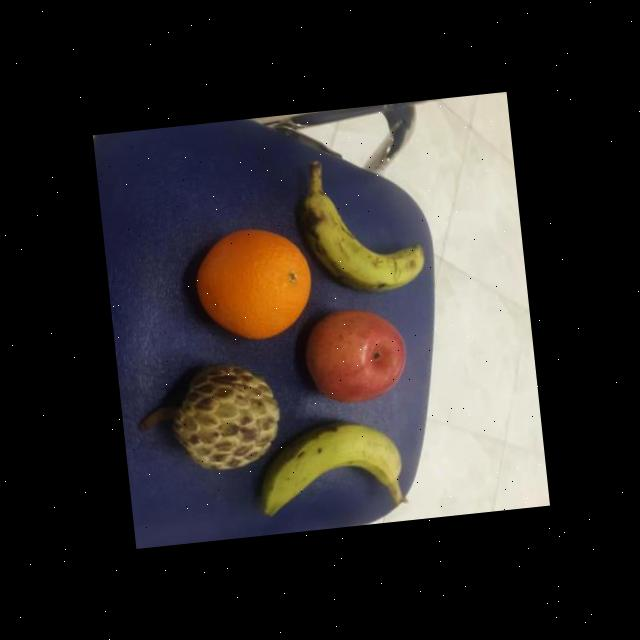Sakya fruit: (164, 354, 289, 476)
apple: (296, 300, 412, 411)
banana: (290, 180, 430, 305), (247, 416, 405, 514)
